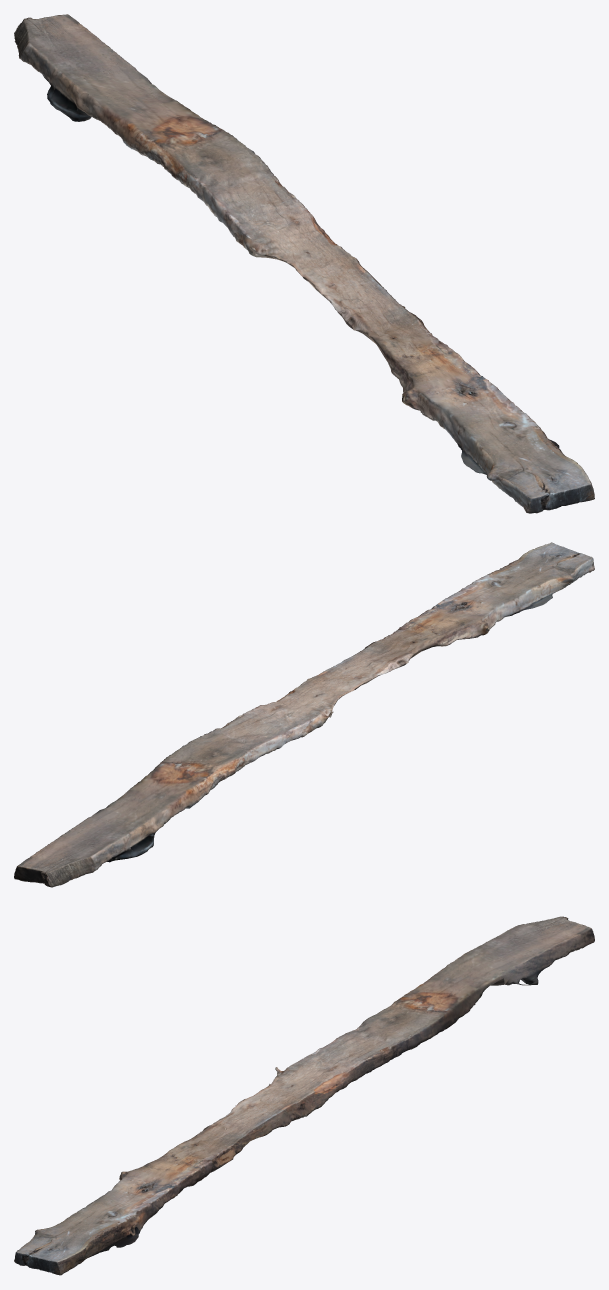
3 renders of one model, top to bottom at view 1: azimuth 30°, elevation 25°; view 2: azimuth 150°, elevation 25°; view 3: azimuth 330°, elevation 25°, orthographic. The views are drawn at different scales.
Size of the model in its own units: 0.0121 by 0.00312 by 0.0841.
1 material, 1 textured.
